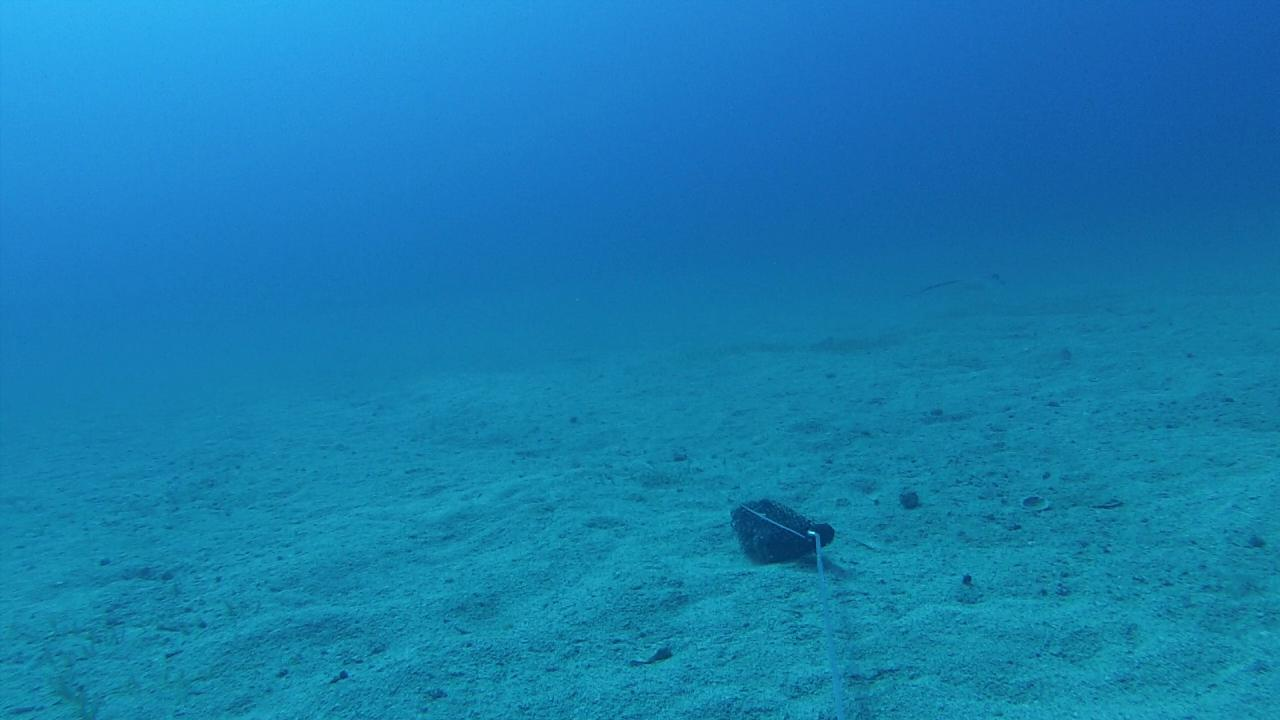dasyatis: (912, 274, 1005, 298)
